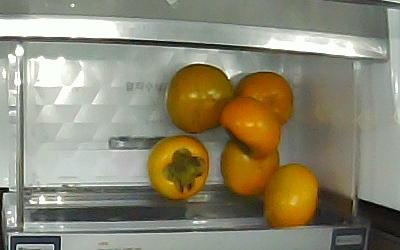persimmon: (166, 65, 233, 134), (147, 137, 210, 199), (221, 96, 281, 159), (264, 164, 319, 228), (222, 139, 281, 197), (236, 71, 295, 127)
